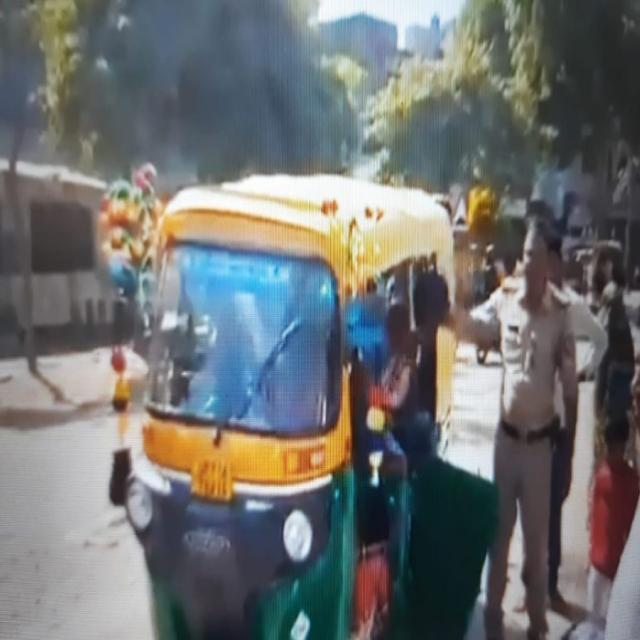autorickshaw: (111, 176, 454, 638)
